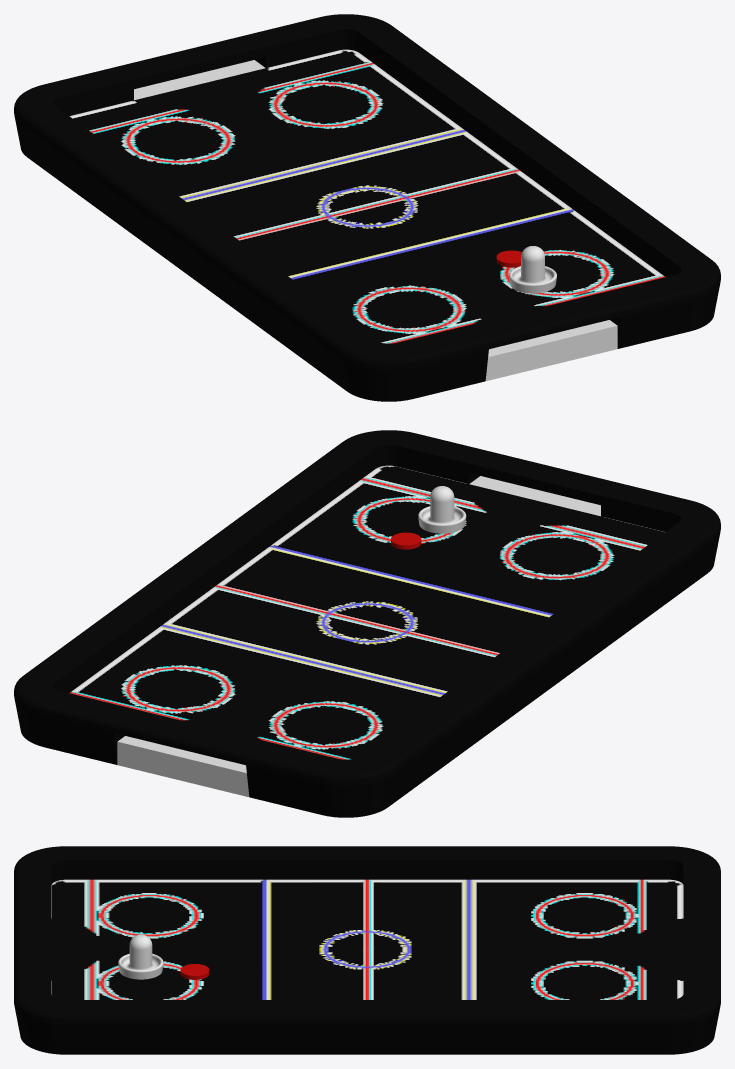
Rendered from table2.glb.
The picture shows the model from 3 angles, top to bottom: view 1: azimuth 30°, elevation 25°; view 2: azimuth 150°, elevation 25°; view 3: azimuth 270°, elevation 25°; orthographic projection. The views are drawn at different scales.
Visible parts, largest first — view 1: table, top, wall2, wall1, bottom, paddle; view 2: table, top, wall2, wall1, bottom, paddle; view 3: table, top, wall1, wall2, paddle, puck.
Part boxes in pixels (<box>): table: <box>69,49,665,343</box>; top: <box>14,14,720,369</box>; wall2: <box>14,89,488,401</box>; wall1: <box>255,38,720,348</box>; bottom: <box>134,60,617,380</box>; paddle: <box>509,246,556,293</box>; table: <box>69,465,665,759</box>; top: <box>14,430,720,785</box>; wall2: <box>246,505,720,817</box>; wall1: <box>14,454,479,764</box>; bottom: <box>117,476,600,796</box>; paddle: <box>418,486,466,533</box>; table: <box>51,879,683,999</box>; top: <box>14,846,720,1024</box>; wall1: <box>14,1007,720,1054</box>; wall2: <box>51,869,683,884</box>; paddle: <box>118,934,163,979</box>; puck: <box>180,964,209,979</box>.
Size of the model in its own units: 1410 by 217 by 2460.
Materials: 3 (1 with a texture image).
